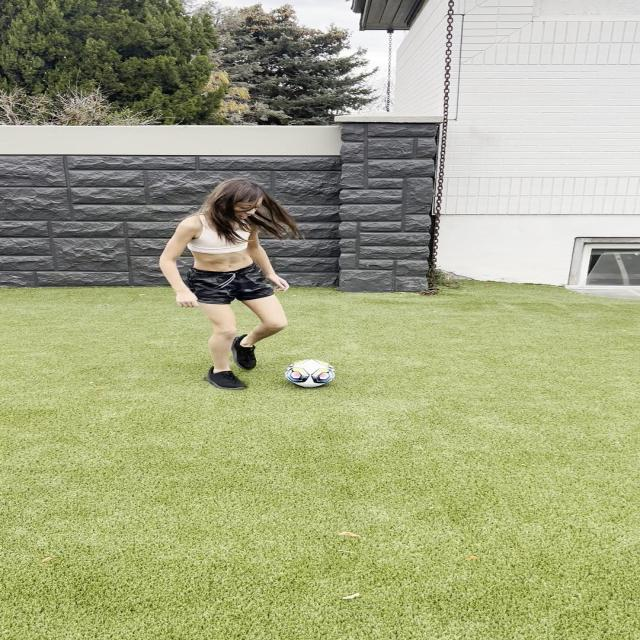Soccer Ball: (287, 358, 335, 388)
